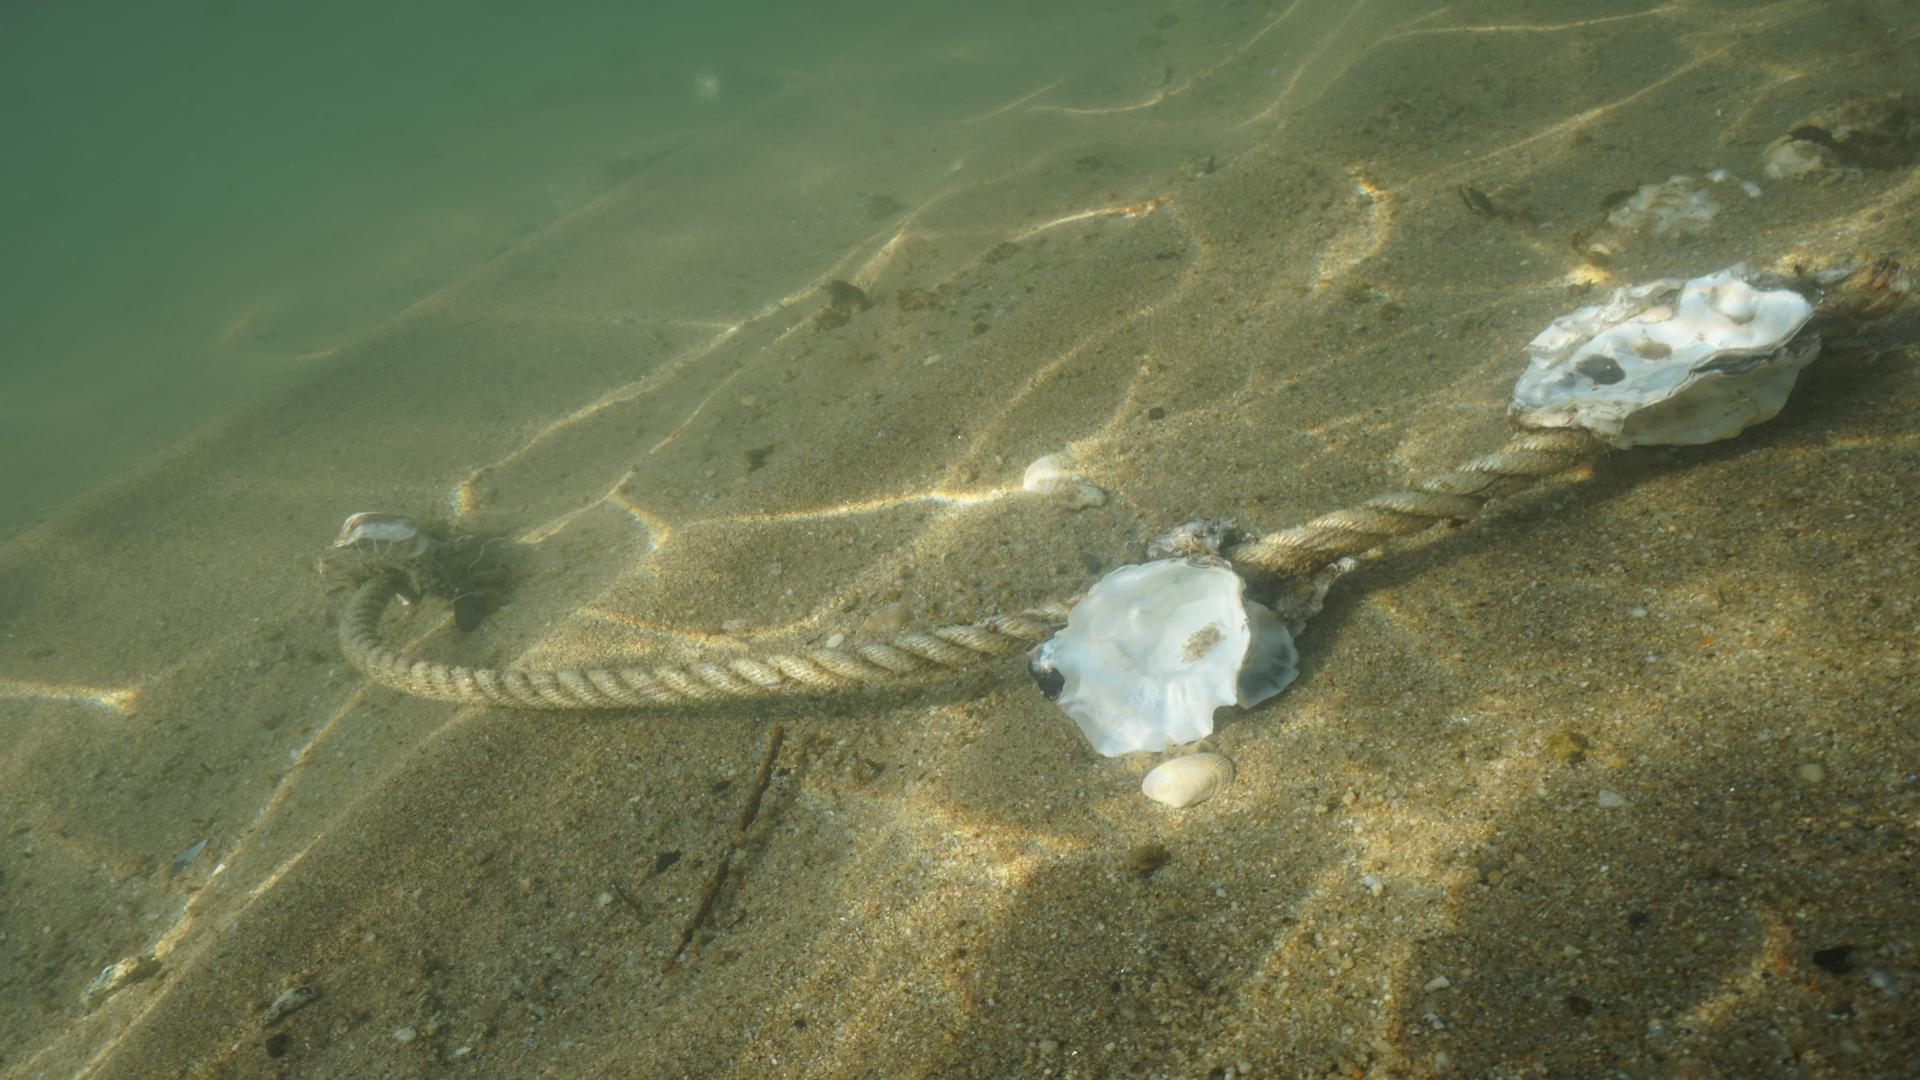rope: (324, 256, 1818, 719)
